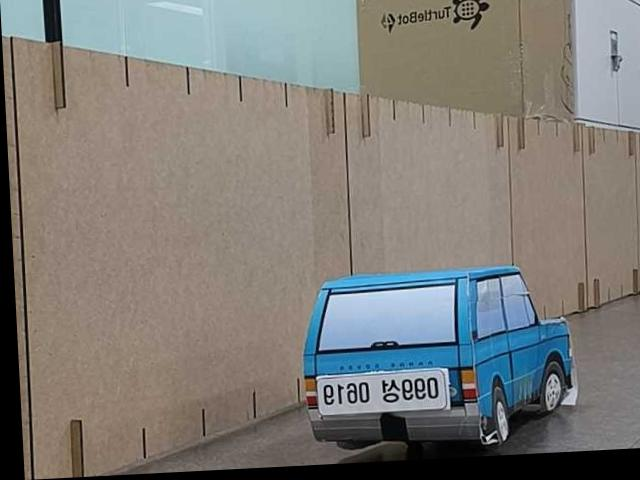car: (296, 259, 586, 460)
id: (311, 361, 454, 427)
